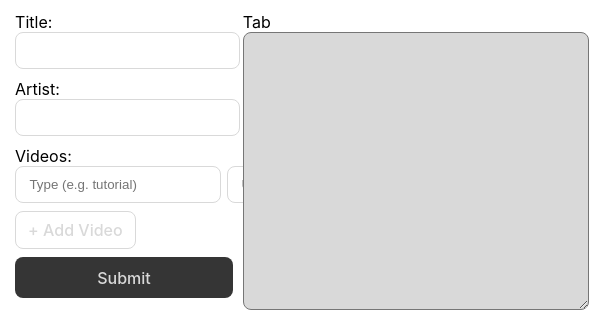
SongForm › Create mode › shows Saving... and disables button while submitting
In the field with id "song-title": (127, 50) [15, 32, 240, 69], type "T"
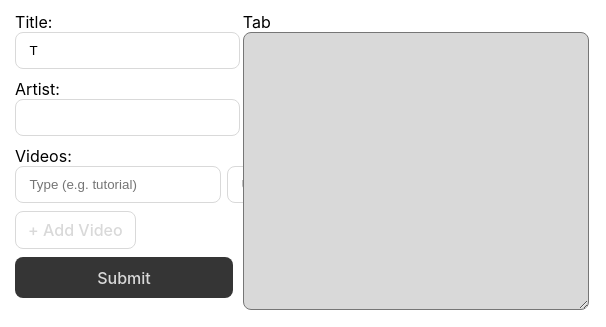
In the field with id "song-artist": (127, 118) [15, 99, 240, 136], type "A"
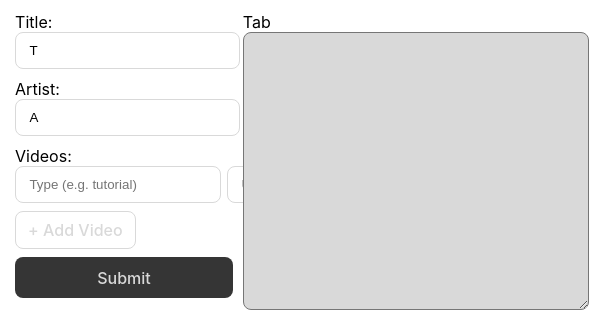
Click the button "Submit": (124, 278) [15, 257, 233, 298]
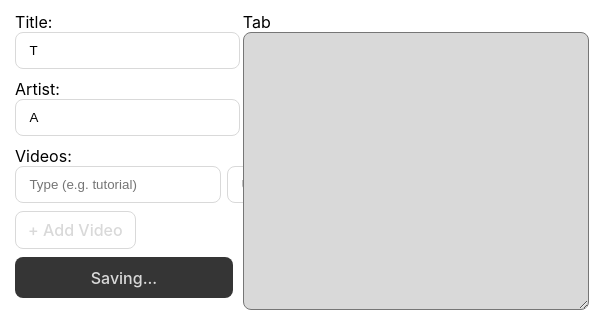
Now the button "Saving..." is disabled, box [15, 257, 233, 298]
